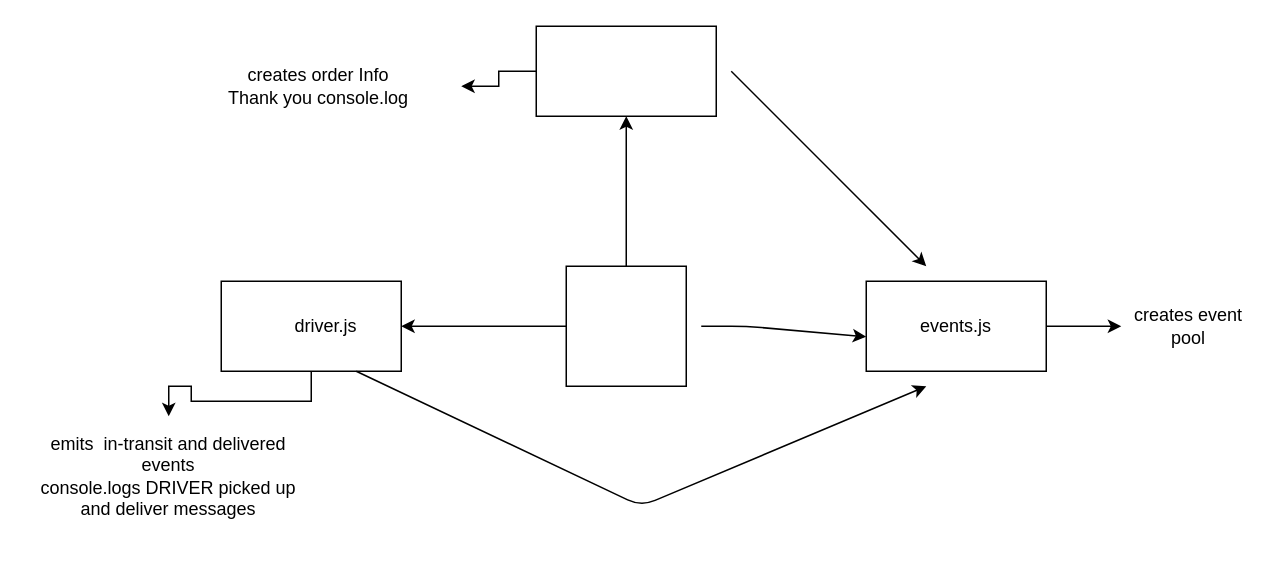
This 1281x563 diagram has some shape labels left out. The centre of each missing label's shape, as x and y in pixels:
caps.js: the point at 625,325
vendor.js: the point at 625,70
